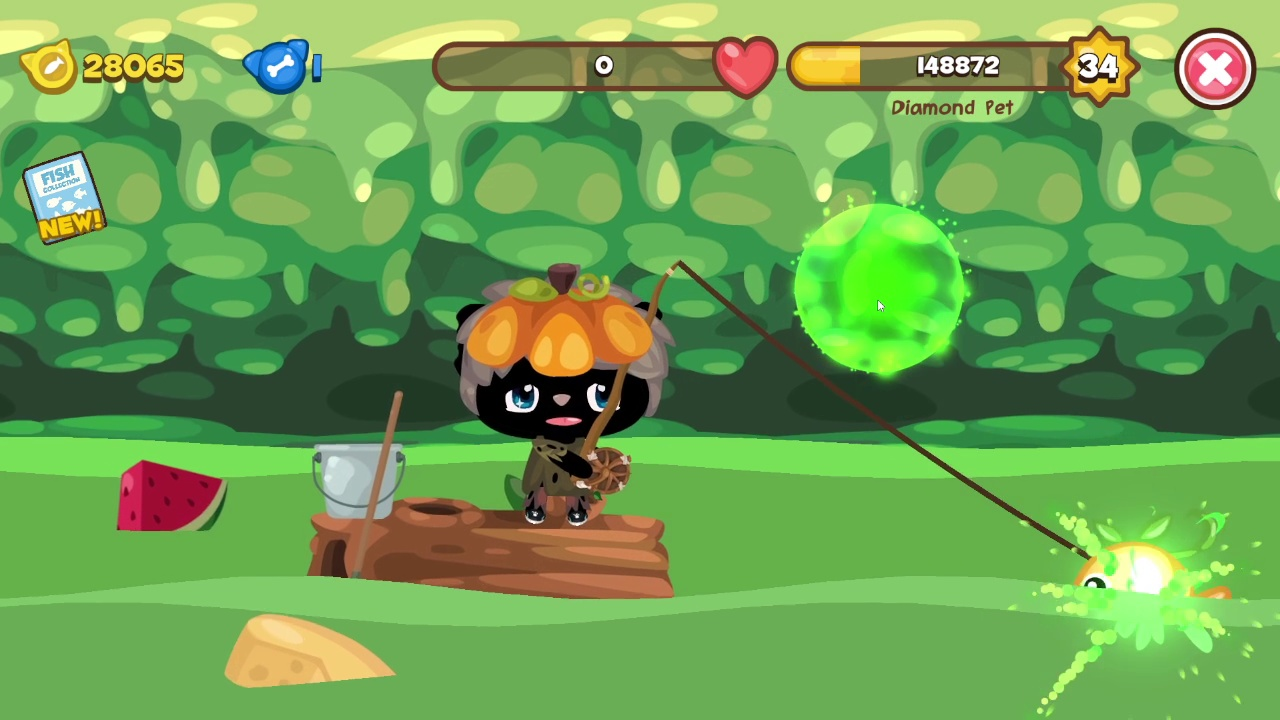point: (794, 199, 969, 378)
